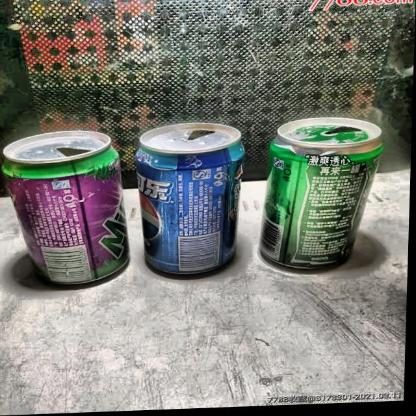Can: (0, 128, 132, 288), (259, 118, 385, 274), (136, 121, 246, 279)
